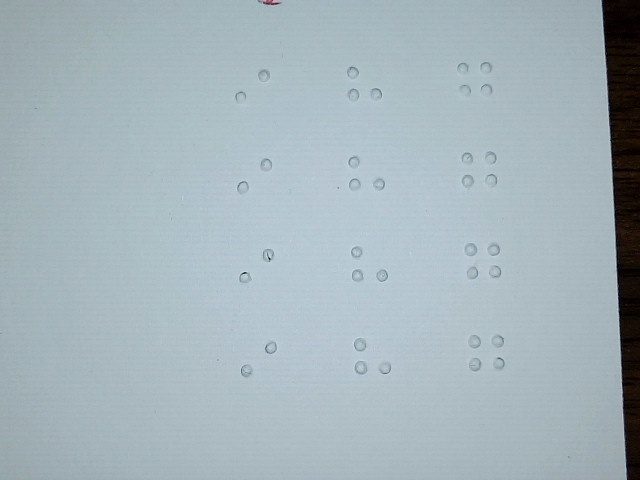G: (454, 51, 495, 120), (459, 142, 500, 211), (462, 231, 503, 300), (466, 321, 507, 390)
H: (344, 56, 385, 125), (346, 144, 387, 213), (349, 234, 390, 303), (352, 327, 393, 396)
I: (232, 58, 273, 127), (234, 145, 275, 214), (239, 330, 280, 399)
